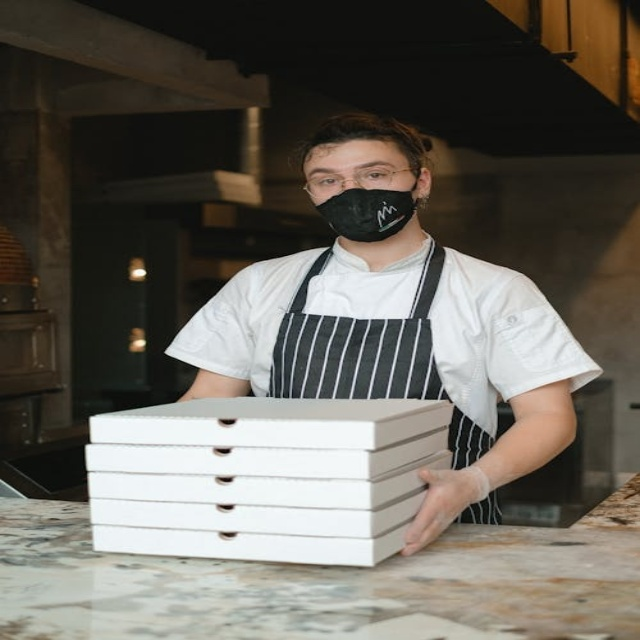Gafas: (304, 167, 418, 197)
Guantes: (396, 454, 499, 561)
Mascara: (312, 184, 419, 241)
